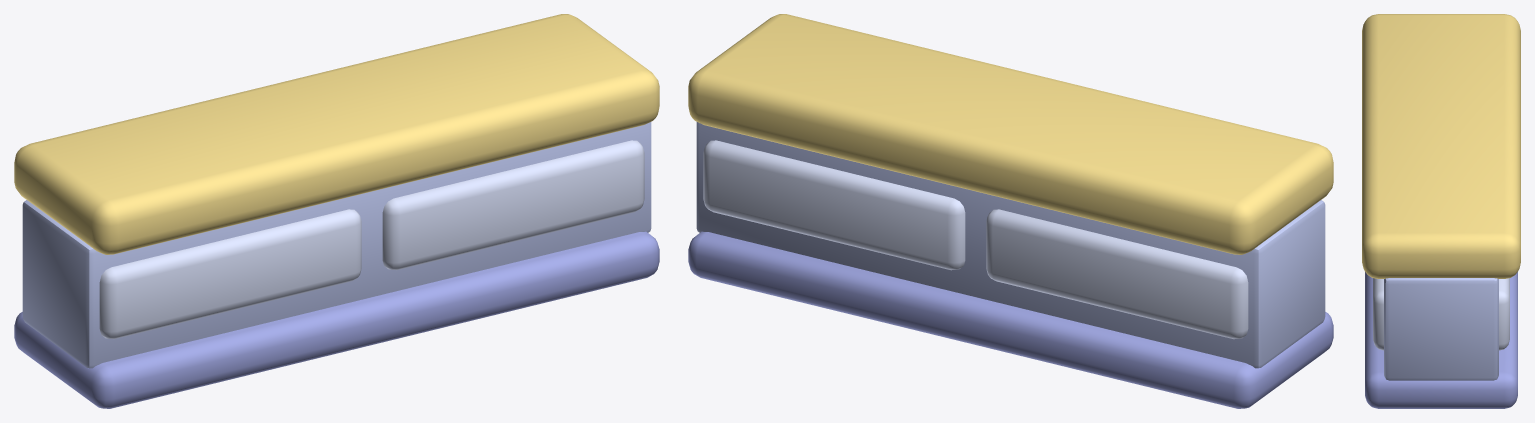
Rendered from SM_HalfWall.fbx.
The picture shows the model from 3 angles, left to right: view 1: azimuth 30°, elevation 25°; view 2: azimuth 150°, elevation 25°; view 3: azimuth 270°, elevation 25°; orthographic projection. The views are drawn at different scales.
Visible parts, largest first — view 1: SM_HalfWall; view 2: SM_HalfWall; view 3: SM_HalfWall.
Boxes of the visible parts, bbox=[...] form: SM_HalfWall: bbox=[14, 14, 659, 408]; SM_HalfWall: bbox=[688, 14, 1333, 408]; SM_HalfWall: bbox=[1362, 14, 1520, 408].
Bounding box in the file's own units: 2 × 0.7 × 0.58.
